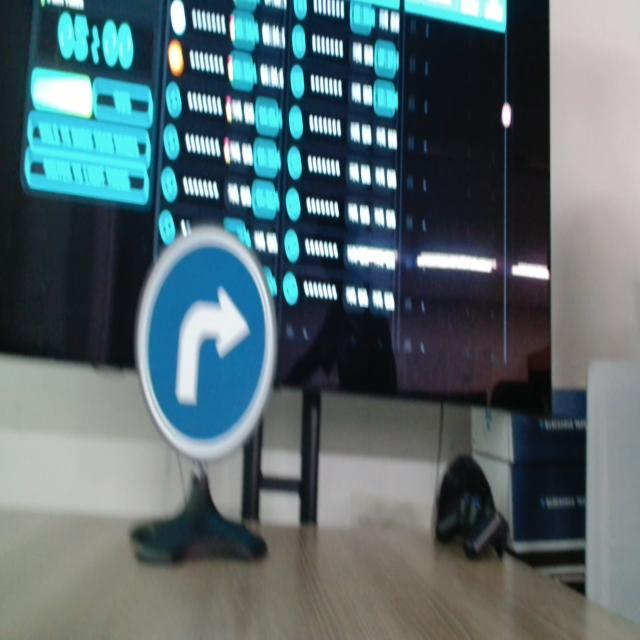right_dierection: (135, 214, 290, 486)
